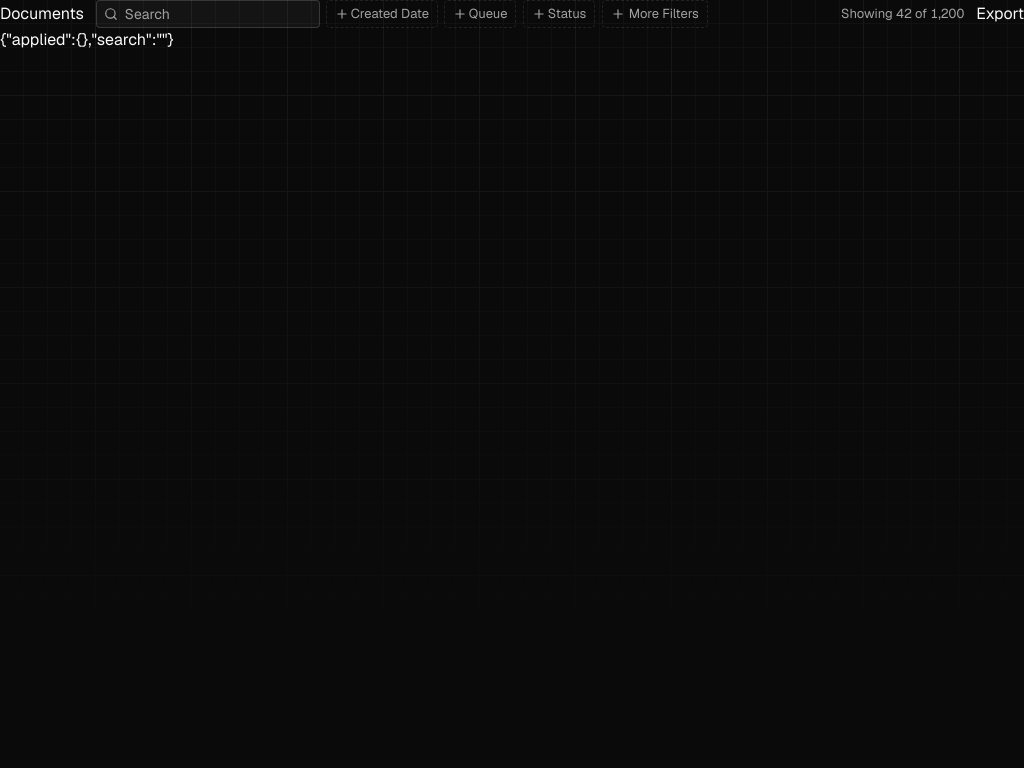
Test case: FilterBar layout (SPEC §4) › [T] Clear all appears only when at least one filter is applied
This screenshot has width=1024, height=768.
Expected: the button "Clear all" is not shown
Click the button with aria-label "Add Created Date filter".
click(394, 14)  # box [351,1,437,27]
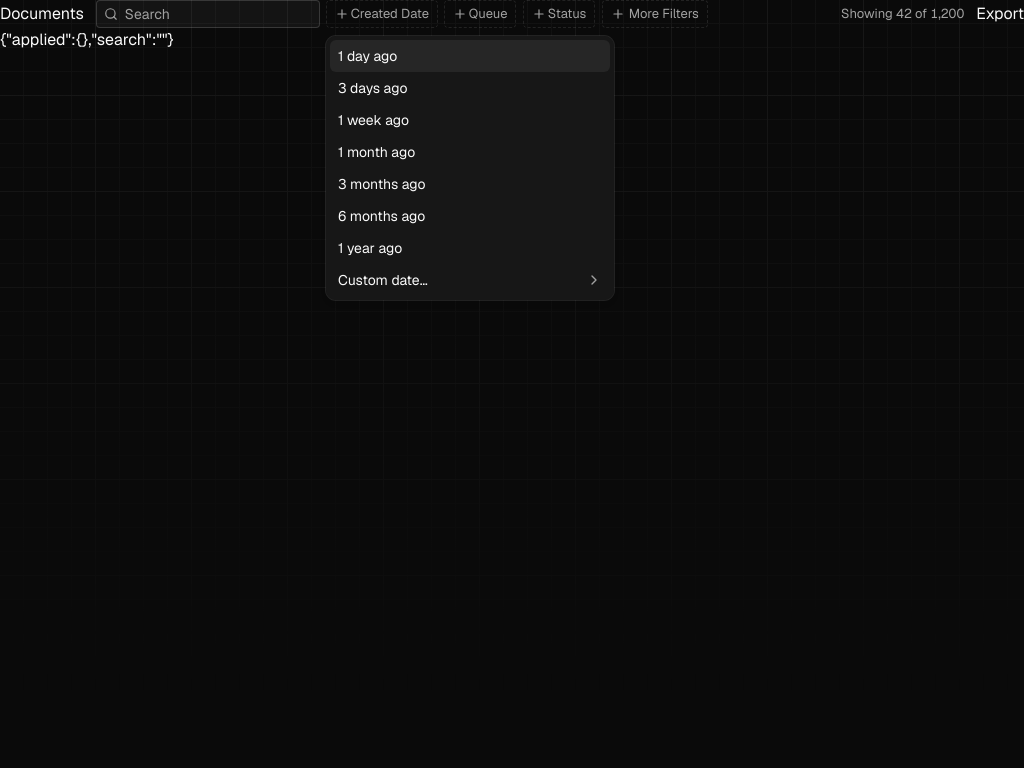
Click the option "1 week ago".
click(374, 120)  # box [338,111,409,129]
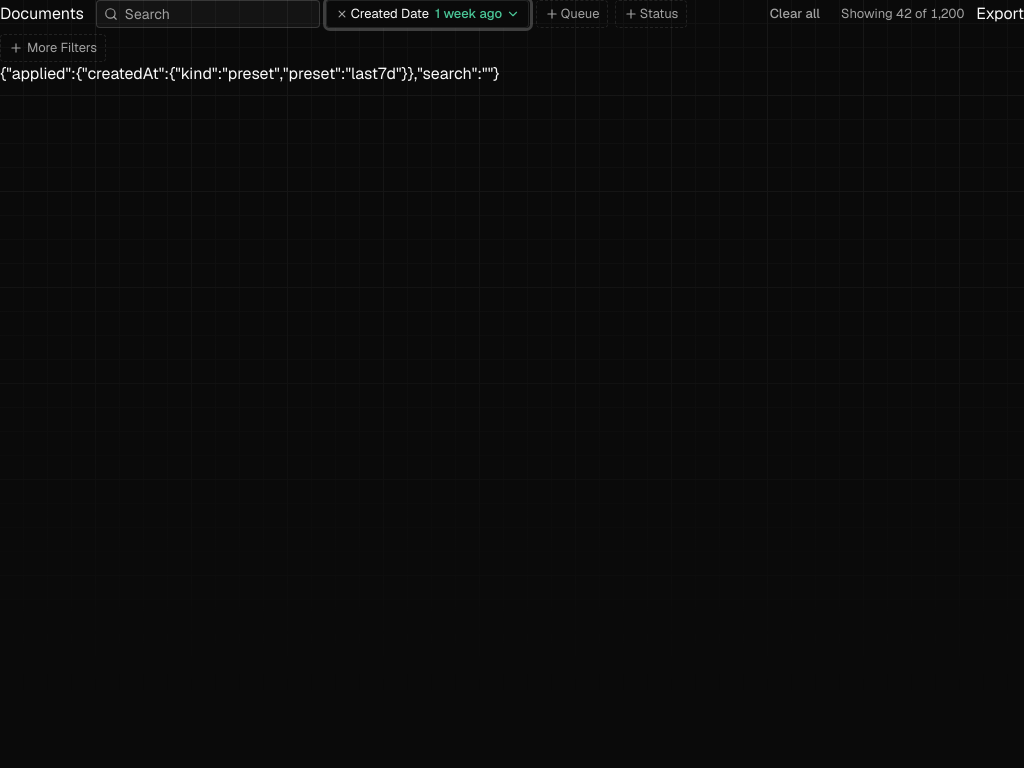
Expected: the button "Clear all" is shown, [761,0,829,28]
